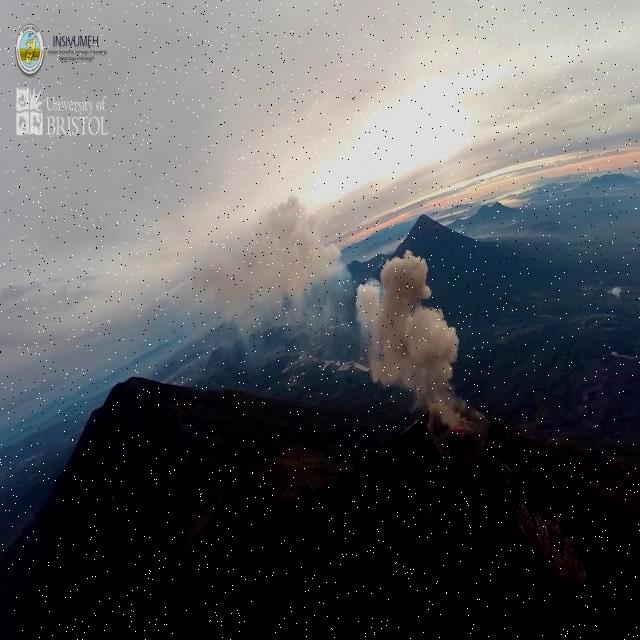Plume: (188, 190, 340, 330), (356, 244, 460, 399)
Summit: (418, 394, 501, 464)
